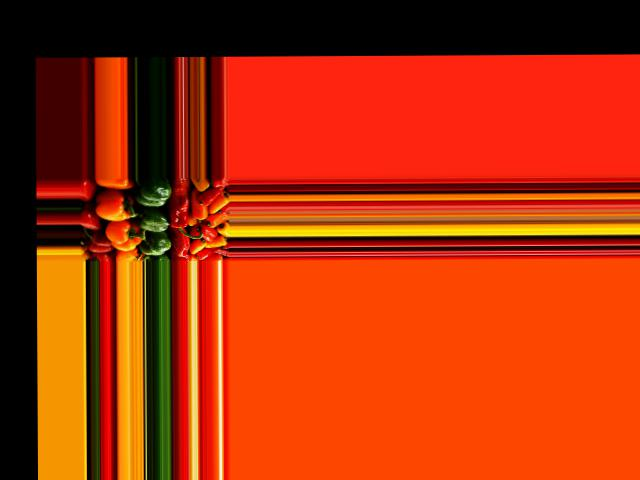bell_pepper: (198, 184, 225, 206)
